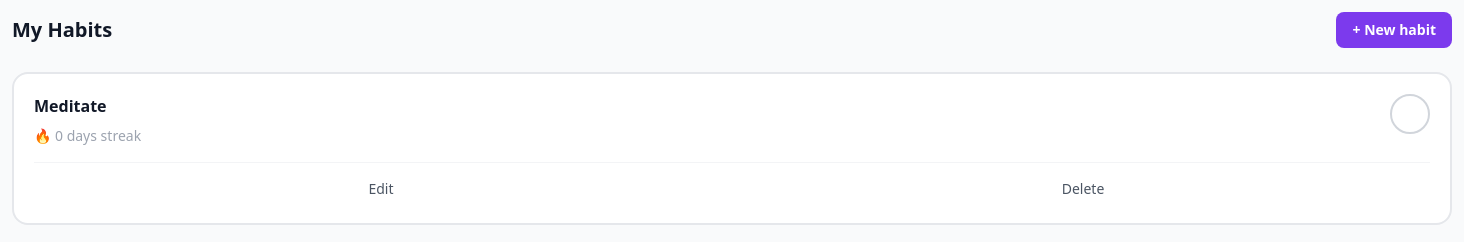
Test case: habit form › toggles completion and updates the streak display
Expected: the element with test id "habit-streak-meditate" is shown, [34,126,141,145]
Expected: the element with test id "habit-streak-meditate" shows "0", [55,126,63,145]
# Toggle complete
Click the button with test id "habit-complete-meditate".
click(1410, 114)  # box [1390,94,1430,134]
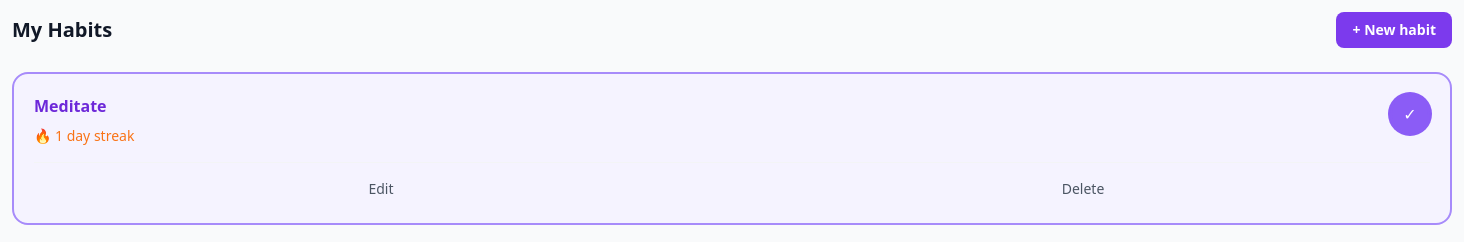
Result: the element with test id "habit-streak-meditate" shows "1" at [55,126,63,145]
# Toggle off
Click the button with test id "habit-complete-meditate".
click(1410, 114)  # box [1390,94,1430,134]
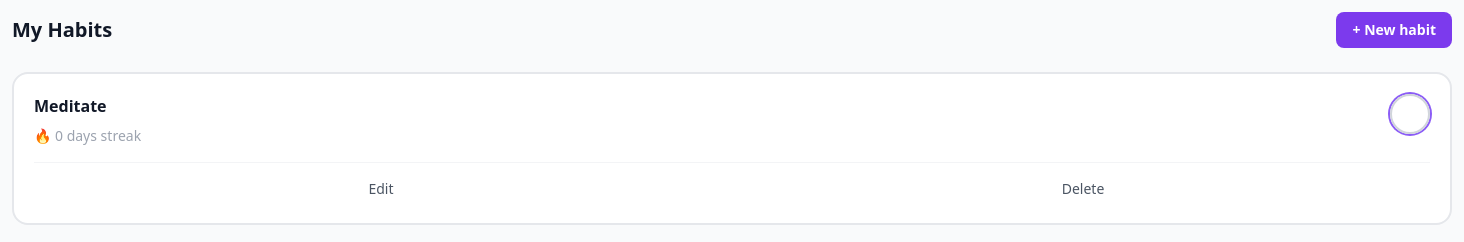
Result: the element with test id "habit-streak-meditate" shows "0" at [55,126,63,145]
